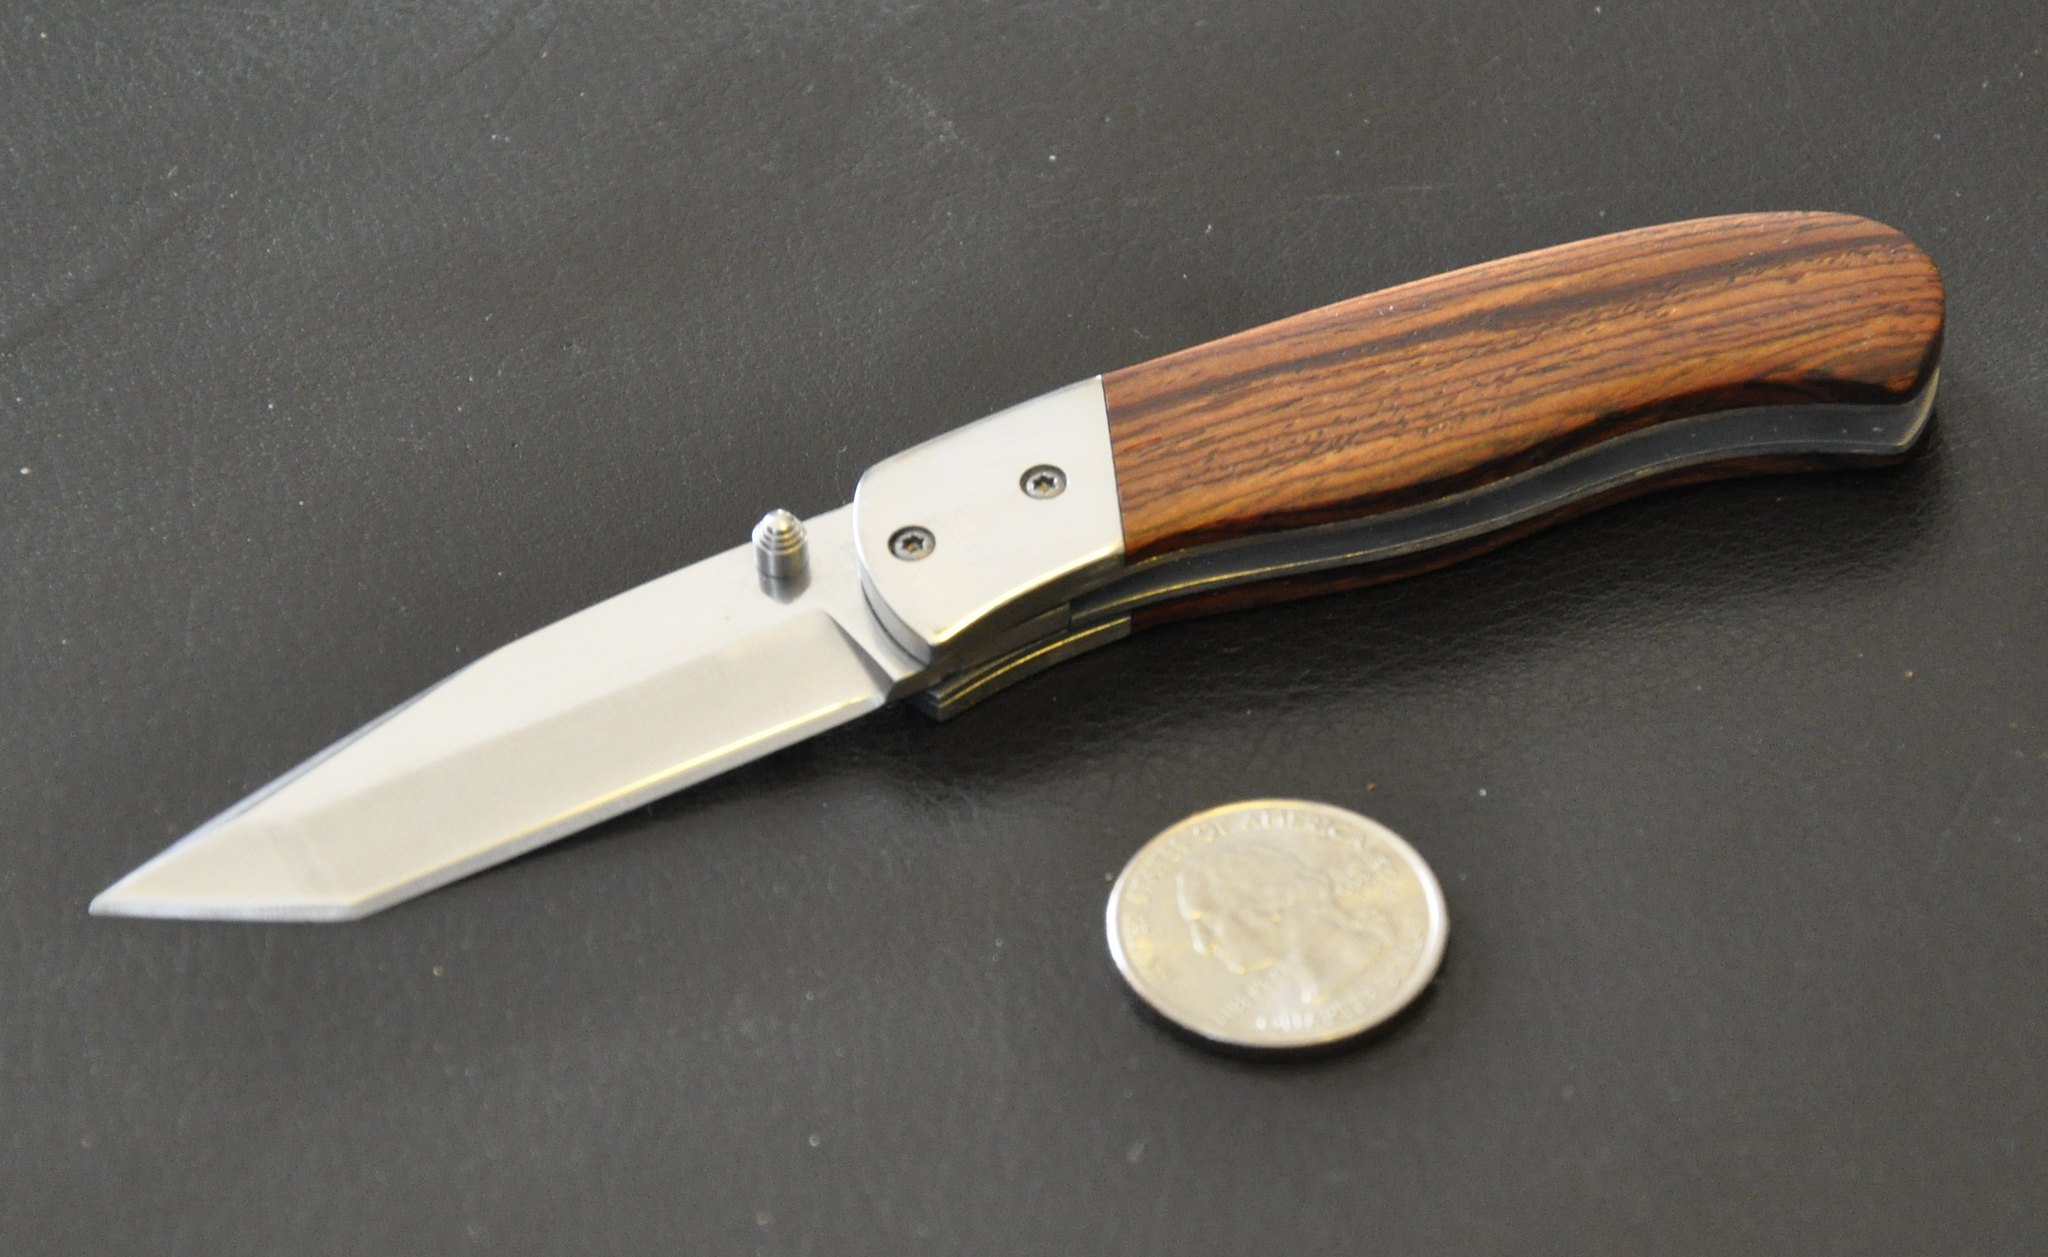knife: (67, 177, 1962, 951)
